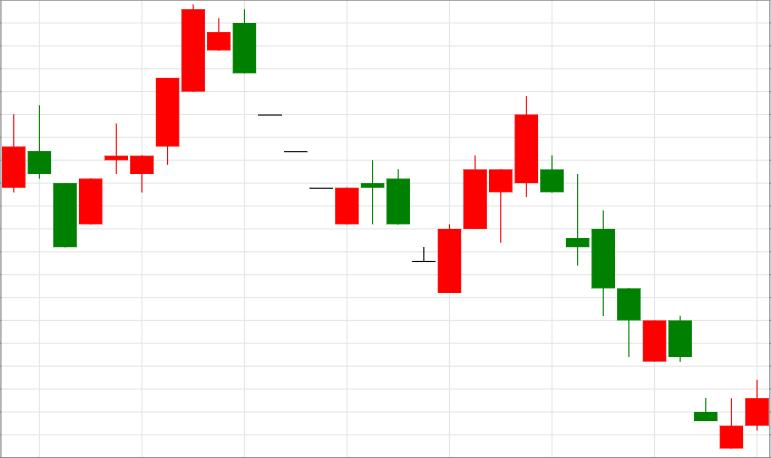bearish_engulfing_fall: (79, 4, 256, 224)
hanging_man_fall: (413, 156, 512, 294)
